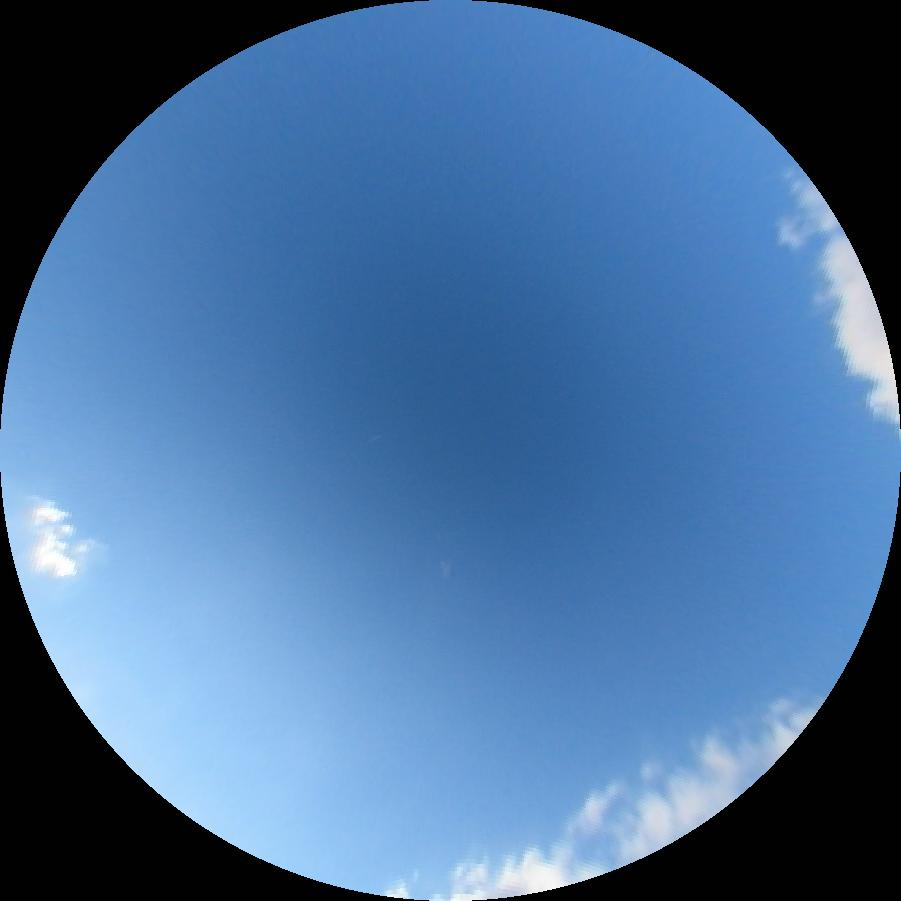contrail young: (367, 433, 383, 441)
